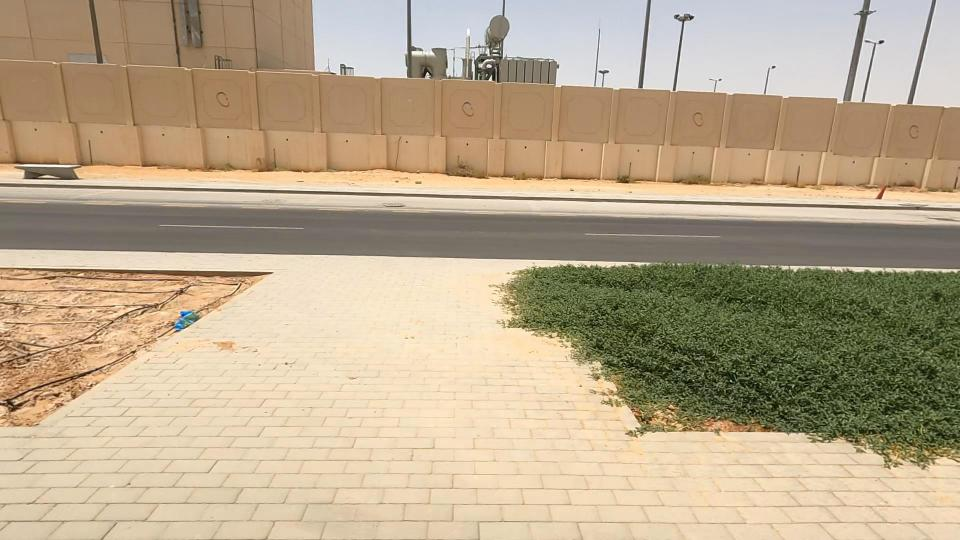GARBAGE: (131, 278, 235, 355)
